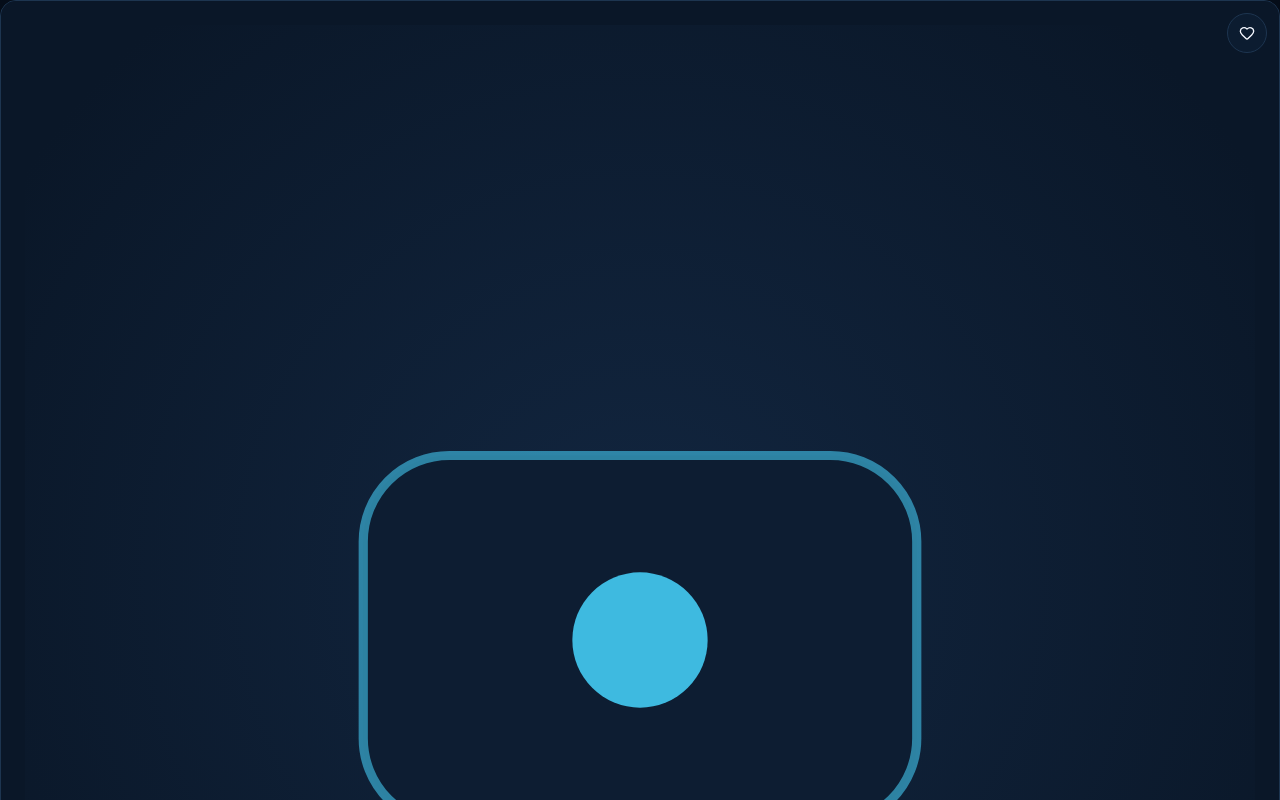
it: ProductCard: wishlist button › toggles its pressed state and reports the change
The width and height of the screenshot is (1280, 800).
Click the button named "Save Test Controller to wishlist" at (1247, 33), box [1227,13,1267,53]
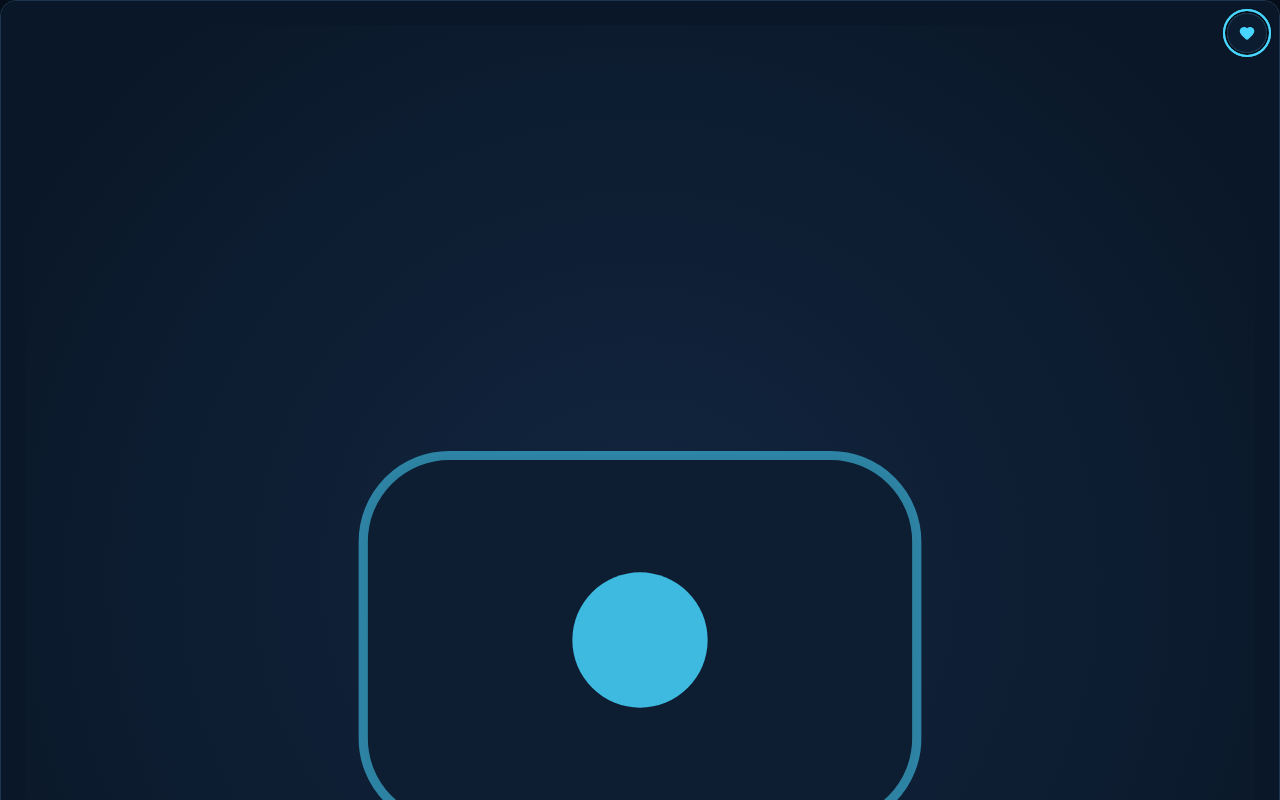
Now the button named "Save Test Controller to wishlist" is pressed
Click the button named "Save Test Controller to wishlist" at (1247, 33), box [1227,13,1267,53]
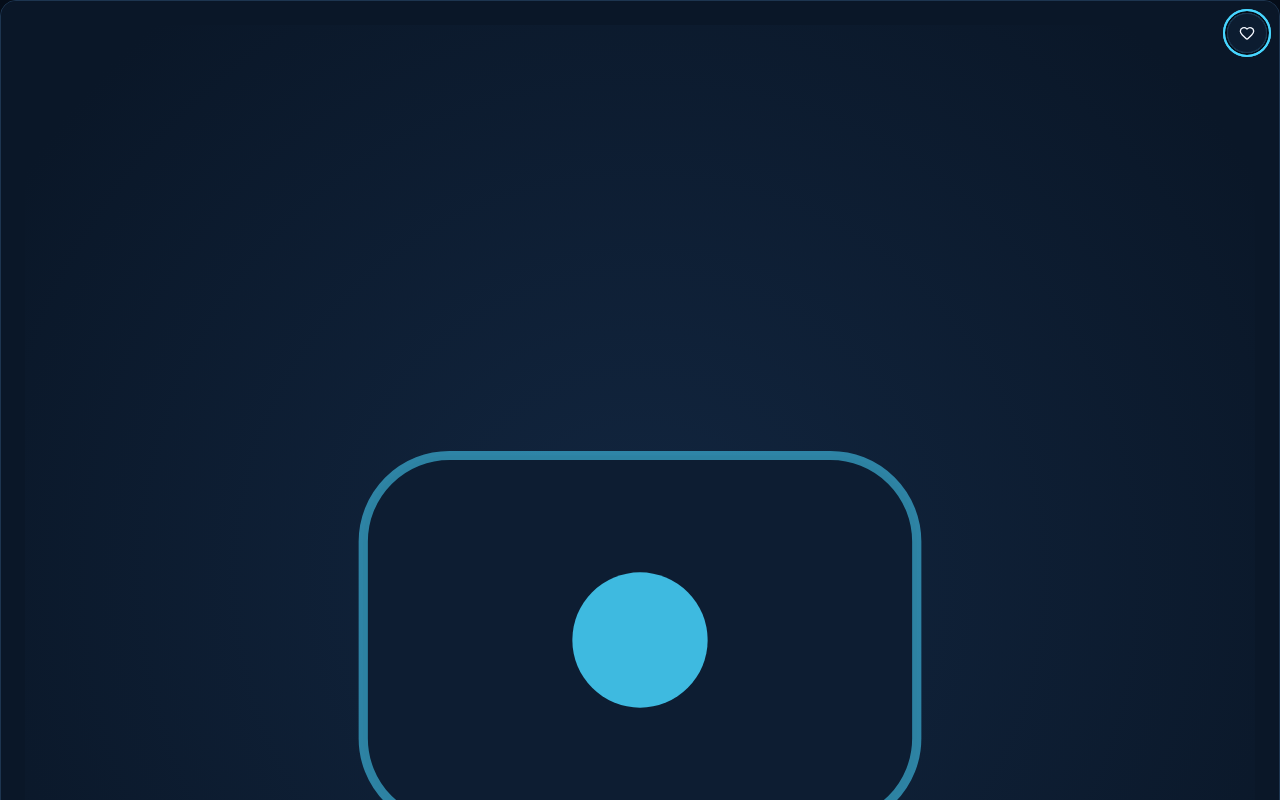
Now the button named "Save Test Controller to wishlist" is not pressed, box [1227,13,1267,53]
